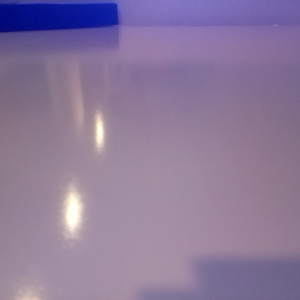zone: (1, 3, 119, 33)
